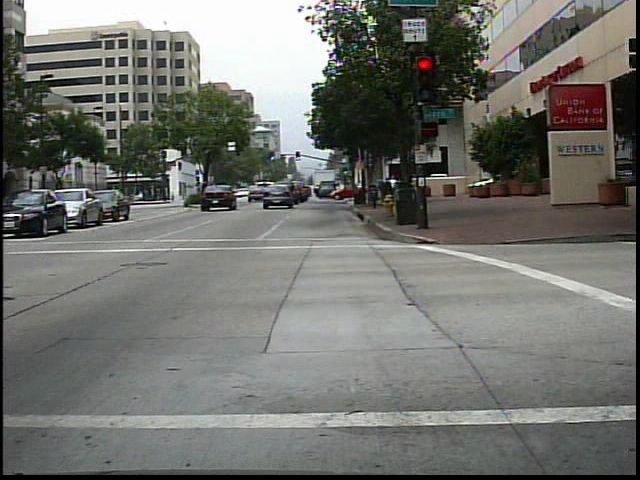person: (167, 188, 178, 205)
